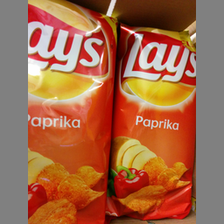chips: (27, 1, 120, 224), (107, 15, 196, 220)
